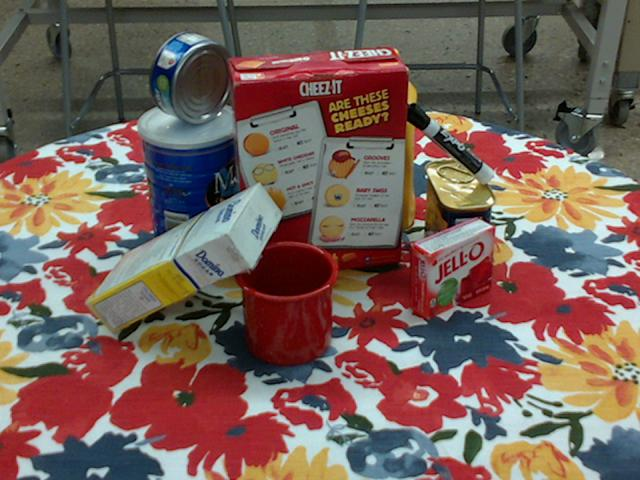cracker_box: (227, 48, 409, 279)
gelatin_box: (409, 217, 495, 319)
large_marker: (402, 103, 493, 184)
master_chef_can: (139, 101, 244, 265)
mug: (233, 239, 339, 365)
mustard_bottle: (362, 49, 416, 231)
potted_meat_can: (423, 159, 495, 275)
sugar_box: (83, 183, 282, 335)
tomato_soup_can: (279, 107, 339, 212)
tuna_fish_can: (149, 31, 232, 123)
